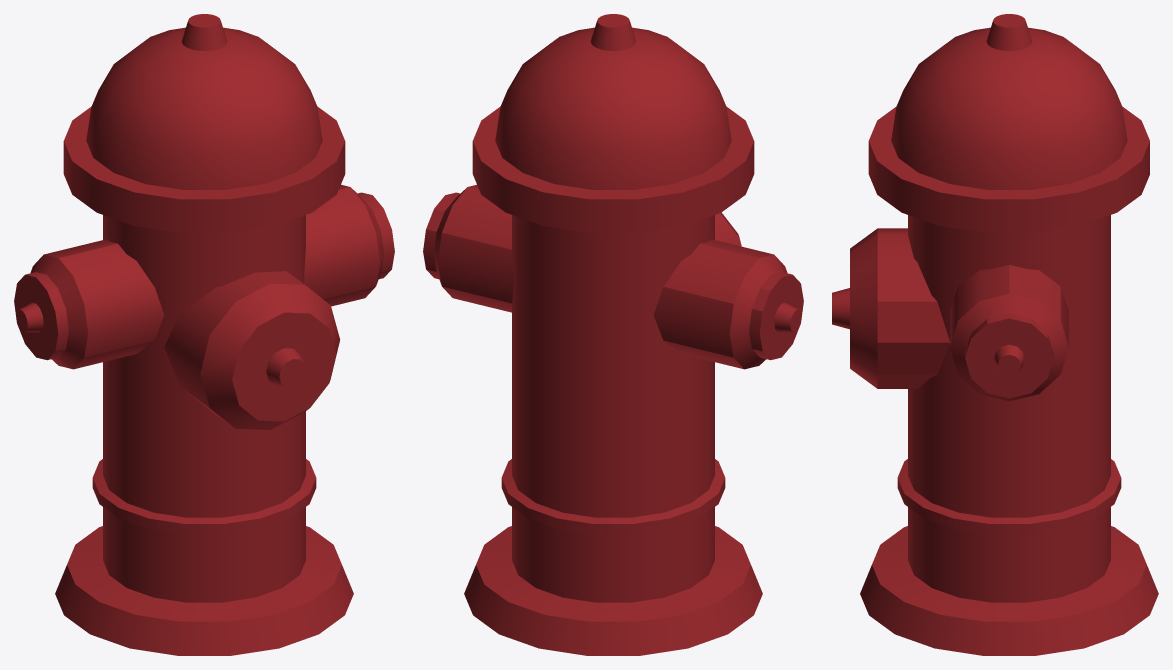
Rendered from prop_fire_hydrant.glb.
The picture shows the model from 3 angles, left to right: view 1: azimuth 30°, elevation 25°; view 2: azimuth 150°, elevation 25°; view 3: azimuth 270°, elevation 25°; orthographic projection.
Visible parts, largest first — view 1: FireHydrant; view 2: FireHydrant; view 3: FireHydrant.
Part boxes in pixels (left/top/right/bottom): FireHydrant: left=14, top=14, right=394, bottom=655; FireHydrant: left=423, top=14, right=803, bottom=655; FireHydrant: left=832, top=14, right=1158, bottom=655.
Bounding box in the file's own units: 0.5151 × 0.7724 × 0.3992.
Materials: 1 (1 with a texture image).
